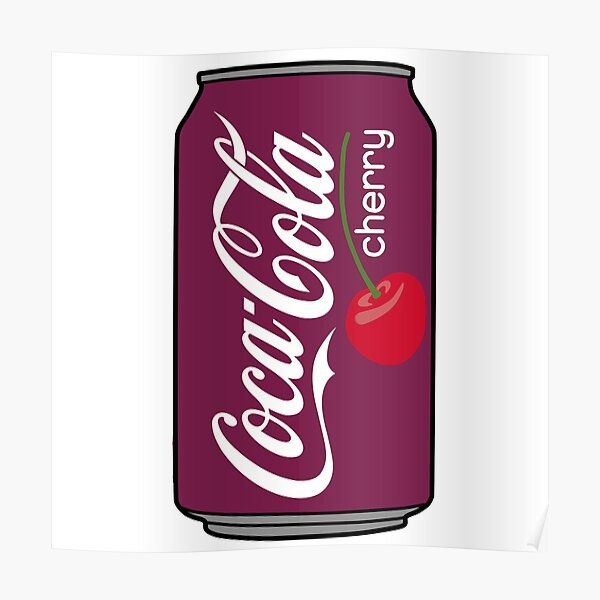metal: (158, 57, 465, 547)
